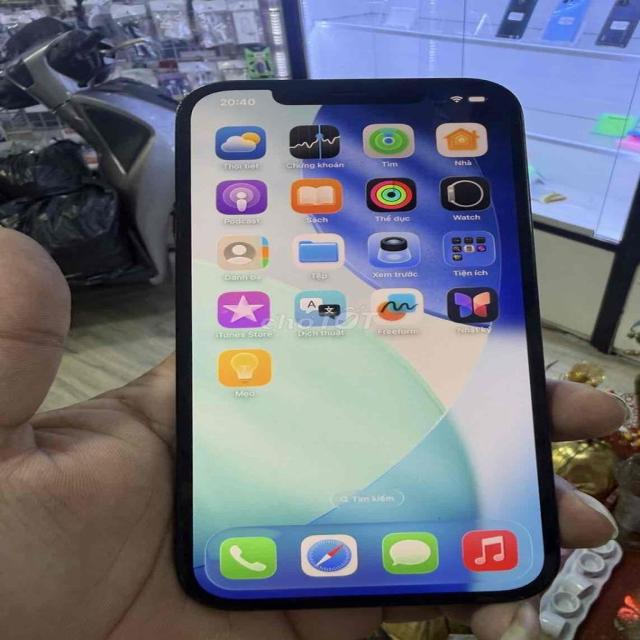gen_12_13: (158, 73, 576, 616)
